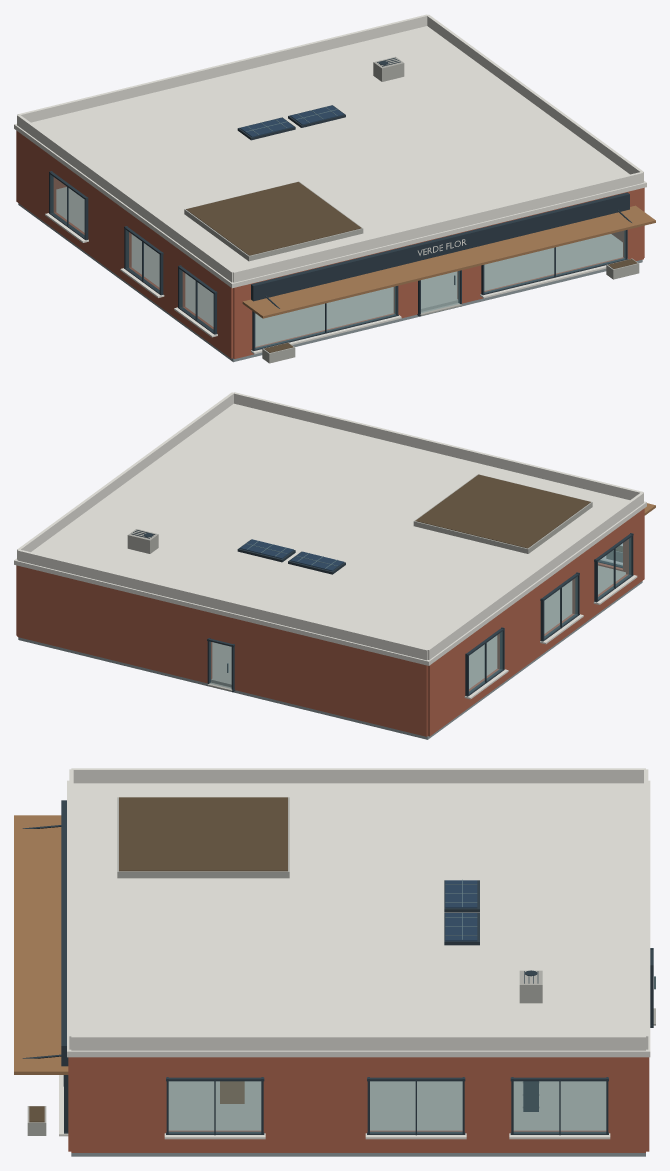
File: Shop_7.fbx
3 views of the same model, one above another, from view 1: azimuth 30°, elevation 25°; view 2: azimuth 150°, elevation 25°; view 3: azimuth 270°, elevation 25° (orthographic). The views are drawn at different scales.
Visible parts, largest first — view 1: Shop_7; view 2: Shop_7; view 3: Shop_7.
Part boxes in pixels (x1=…): Shop_7: x1=14, y1=14, x2=655, y2=363; Shop_7: x1=14, y1=392, x2=655, y2=739; Shop_7: x1=14, y1=768, x2=655, y2=1156.
Bounding box in the file's own units: 22.87 × 4.87 × 22.35.
